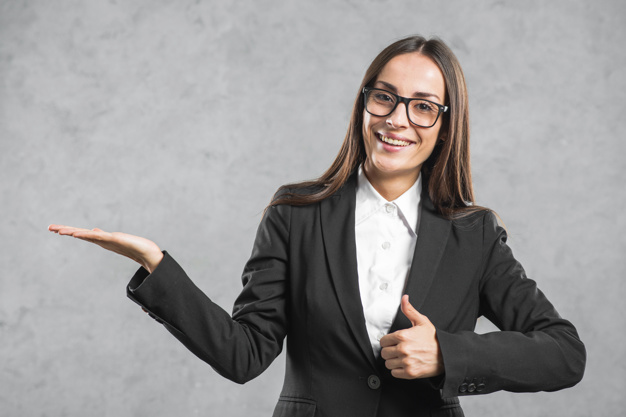thumbsup: (380, 294, 425, 379)
